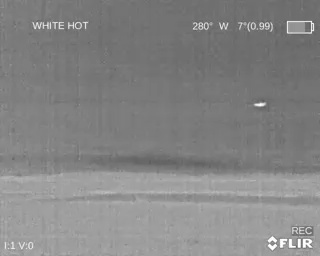AIRPLANE: (251, 98, 269, 110)
